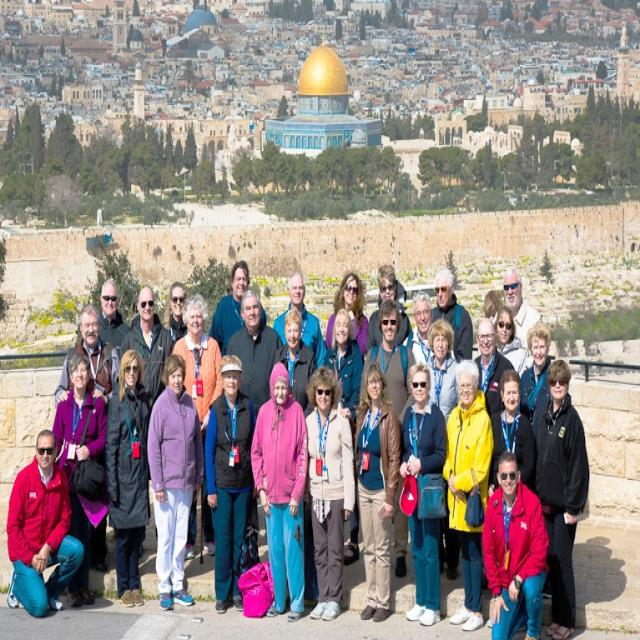body: (530, 356, 590, 639), (57, 506, 230, 604), (339, 357, 402, 625), (248, 356, 310, 626), (144, 350, 206, 612), (49, 349, 111, 610), (439, 356, 496, 634), (5, 426, 86, 620), (204, 352, 262, 616), (170, 292, 224, 562), (301, 365, 357, 624), (478, 448, 551, 638), (338, 516, 472, 618), (398, 362, 448, 626), (103, 346, 152, 609), (510, 531, 628, 639), (323, 306, 364, 566), (224, 288, 286, 430), (52, 302, 122, 408), (118, 284, 176, 410), (360, 299, 418, 421), (486, 368, 537, 498), (207, 258, 269, 358), (491, 265, 543, 381), (271, 268, 328, 372), (270, 306, 318, 420), (365, 261, 414, 359), (471, 316, 515, 418), (324, 270, 370, 365), (422, 316, 462, 424), (430, 266, 474, 364), (401, 289, 456, 366), (518, 321, 554, 420), (302, 375, 317, 611), (89, 276, 132, 352), (496, 304, 529, 378), (161, 282, 189, 366), (481, 288, 504, 318)
